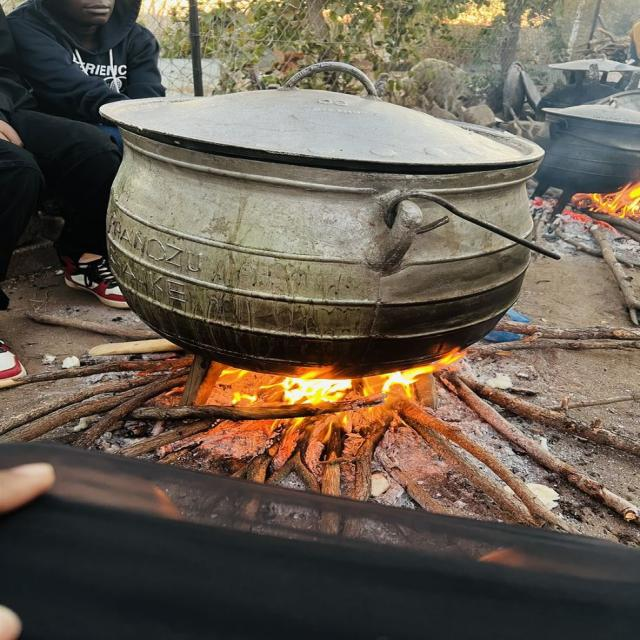fire: (259, 371, 352, 406), (363, 365, 435, 398), (588, 180, 640, 218)
